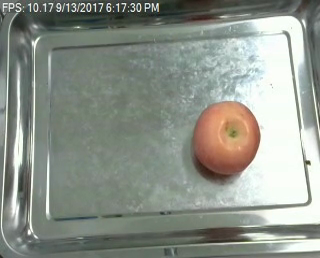Apple: (193, 99, 261, 173)
